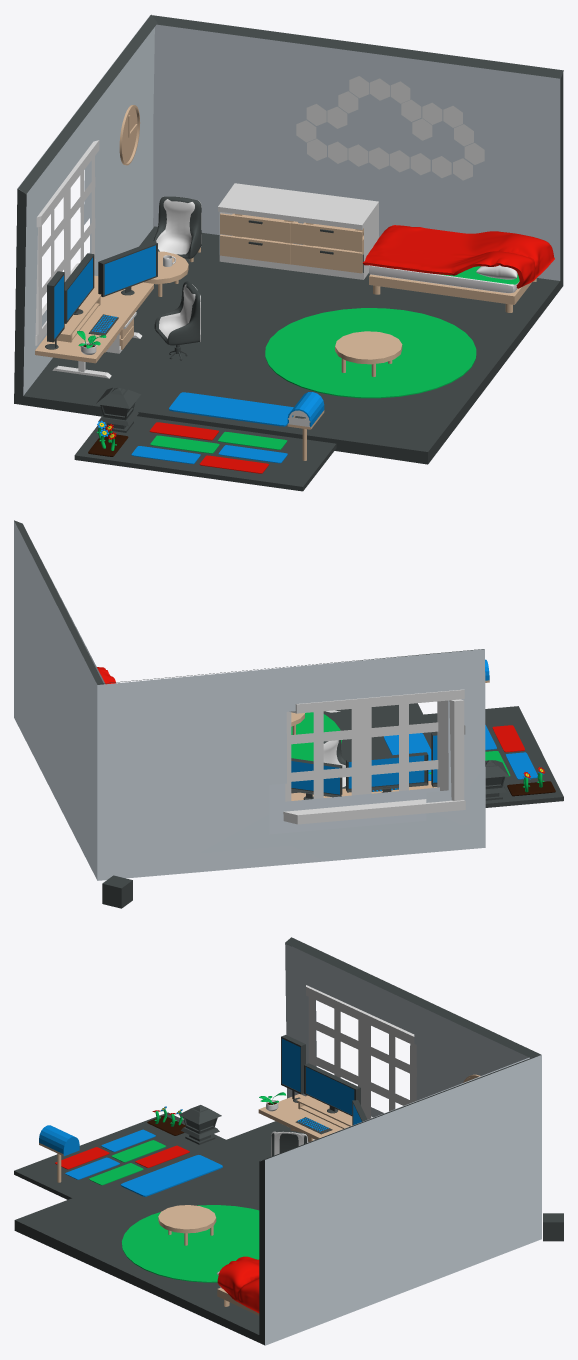
File: room.glb
The picture shows the model from 3 angles, top to bottom: view 1: azimuth 30°, elevation 25°; view 2: azimuth 150°, elevation 25°; view 3: azimuth 270°, elevation 25°; orthographic projection. The views are drawn at different scales.
Visible parts, largest first — view 1: Body, floor items, bed, Clouds, outsidefloor, Desktop, Computer, Chair, Table Stuff, outsidefloor third, outsidefloor first, outsidefloor second (+3 smaller); view 2: Body, outsidefloor, Computer, floor items, outsidefloor third, Cube, lamp, Chair, dirt; view 3: Body, floor items, outsidefloor, Computer, bed, Table Stuff, Desktop, lamp, outsidefloor second, outsidefloor first, outsidefloor third, mailbox (+2 smaller).
Part boxes in pixels (left/top/right/bottom): Body: left=14, top=14, right=563, bottom=464; floor items: left=106, top=183, right=536, bottom=426; bed: left=335, top=225, right=554, bottom=376; Clouds: left=296, top=76, right=484, bottom=180; outsidefloor: left=74, top=416, right=336, bottom=491; Desktop: left=35, top=196, right=201, bottom=378; Computer: left=45, top=241, right=157, bottom=349; Chair: left=154, top=281, right=200, bottom=345; Table Stuff: left=56, top=293, right=118, bottom=354; outsidefloor third: left=131, top=446, right=268, bottom=473; outsidefloor first: left=149, top=422, right=287, bottom=449; outsidefloor second: left=150, top=435, right=287, bottom=463; Body: left=14, top=520, right=485, bottom=880; outsidefloor: left=424, top=706, right=563, bottom=807; Computer: left=291, top=732, right=437, bottom=799; floor items: left=291, top=712, right=431, bottom=780; outsidefloor third: left=492, top=725, right=537, bottom=779; Cube: left=102, top=875, right=132, bottom=908; lamp: left=485, top=760, right=508, bottom=800; Chair: left=323, top=740, right=345, bottom=788; dirt: left=507, top=781, right=555, bottom=796; Body: left=14, top=937, right=541, bottom=1345; floor items: left=120, top=1155, right=259, bottom=1315; outsidefloor: left=14, top=1112, right=225, bottom=1199; Computer: left=281, top=1035, right=367, bottom=1125; bed: left=158, top=1205, right=259, bottom=1313; Table Stuff: left=259, top=1092, right=352, bottom=1134; Desktop: left=258, top=1094, right=342, bottom=1142; lamp: left=178, top=1105, right=221, bottom=1144; outsidefloor second: left=65, top=1140, right=166, bottom=1179; outsidefloor first: left=89, top=1145, right=189, bottom=1185; outsidefloor third: left=55, top=1129, right=155, bottom=1169; mailbox: left=39, top=1125, right=79, bottom=1182.
Size of the model in its own units: 51.26 by 20.34 by 52.01.
